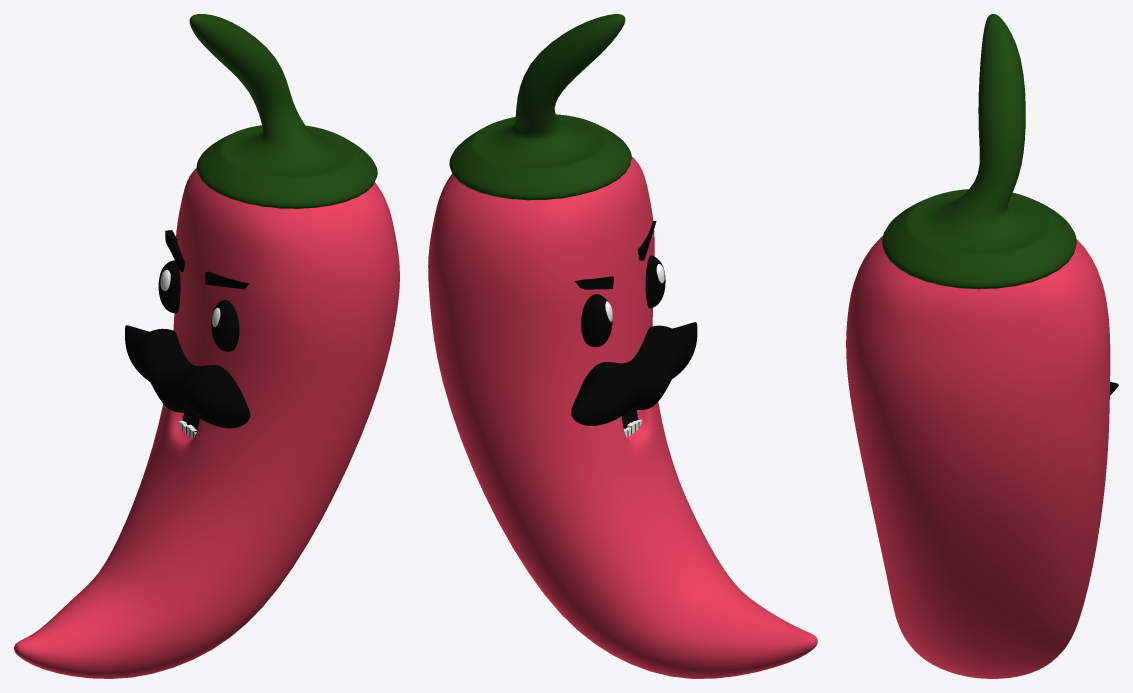
File: mexican_chili.glb
3 views of the same model, side by side, from view 1: azimuth 30°, elevation 25°; view 2: azimuth 150°, elevation 25°; view 3: azimuth 270°, elevation 25° (orthographic). The views are drawn at different scales.
Visible parts, largest first — view 1: Body_9, Cylinder_10, Mustache_0, RightEye_8, LeftEye_6; view 2: Body_9, Cylinder_10, Mustache_0, LeftEye_6, RightEye_8; view 3: Body_9, Cylinder_10.
Part boxes in pixels (<box>): Body_9: <box>14,167,399,678</box>; Cylinder_10: <box>189,14,377,208</box>; Mustache_0: <box>125,325,250,428</box>; RightEye_8: <box>211,299,239,351</box>; LeftEye_6: <box>158,260,180,313</box>; Body_9: <box>428,156,817,678</box>; Cylinder_10: <box>449,14,631,200</box>; Mustache_0: <box>571,322,697,425</box>; LeftEye_6: <box>581,294,612,347</box>; RightEye_8: <box>645,255,665,308</box>; Body_9: <box>846,236,1110,678</box>; Cylinder_10: <box>882,14,1076,289</box>.
Size of the model in its own units: 7.67 by 12.82 by 4.66.
